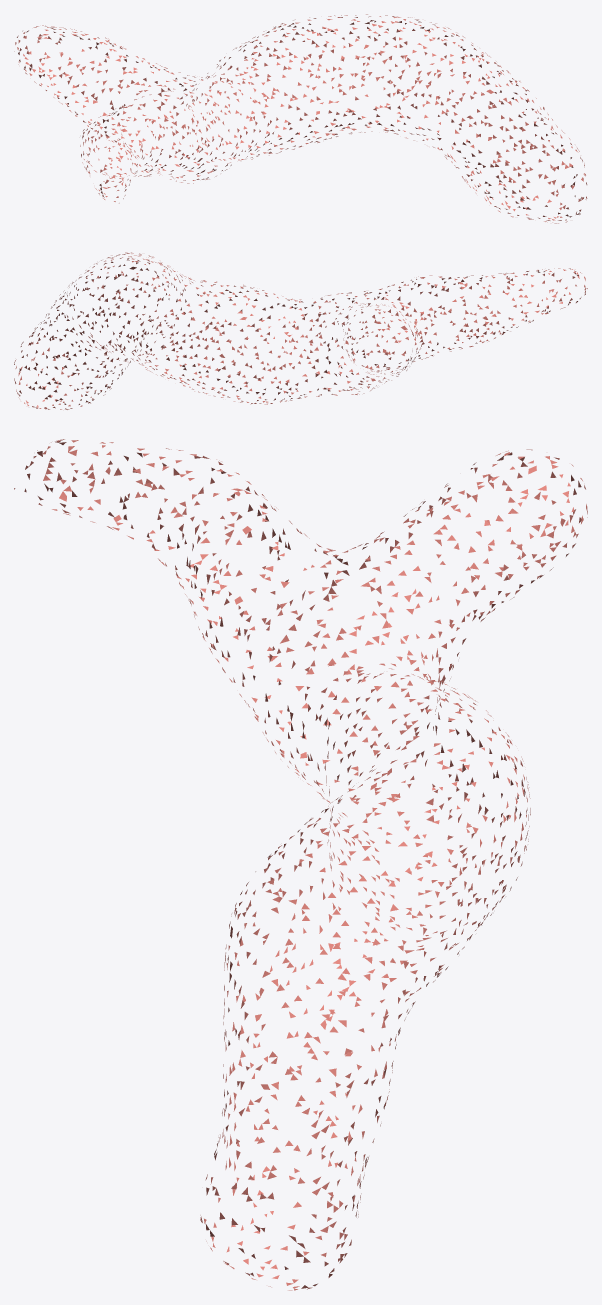
Rendered from morph_001.glb.
3 views of the same model, one above another, from view 1: azimuth 30°, elevation 25°; view 2: azimuth 150°, elevation 25°; view 3: azimuth 270°, elevation 25° (orthographic). The views are drawn at different scales.
Bounding box in the file's own units: 97.65 × 42.78 × 50.11.
